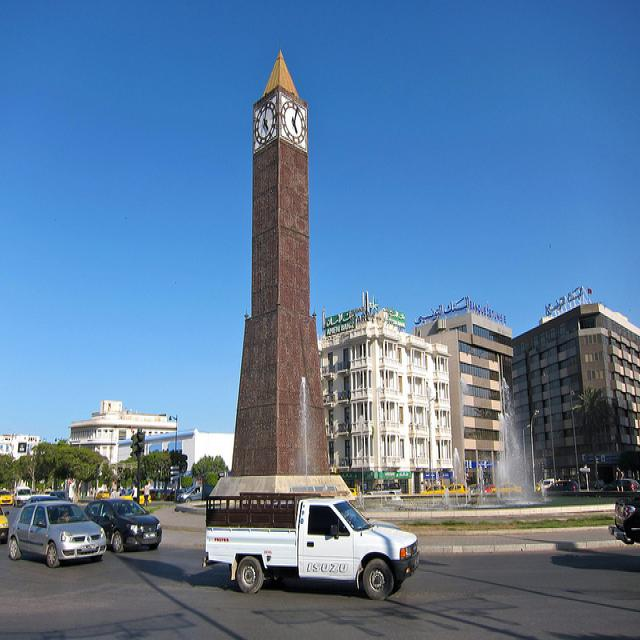Vehicle: (197, 482, 420, 606), (202, 495, 418, 604), (6, 498, 104, 571), (85, 499, 161, 554), (608, 495, 640, 544), (608, 496, 640, 545), (603, 478, 640, 492), (488, 482, 523, 494), (177, 486, 203, 502), (544, 480, 579, 490), (0, 507, 9, 545), (446, 483, 469, 494), (14, 486, 32, 500), (420, 485, 446, 494), (0, 490, 14, 505), (542, 478, 556, 489), (484, 484, 494, 493)
